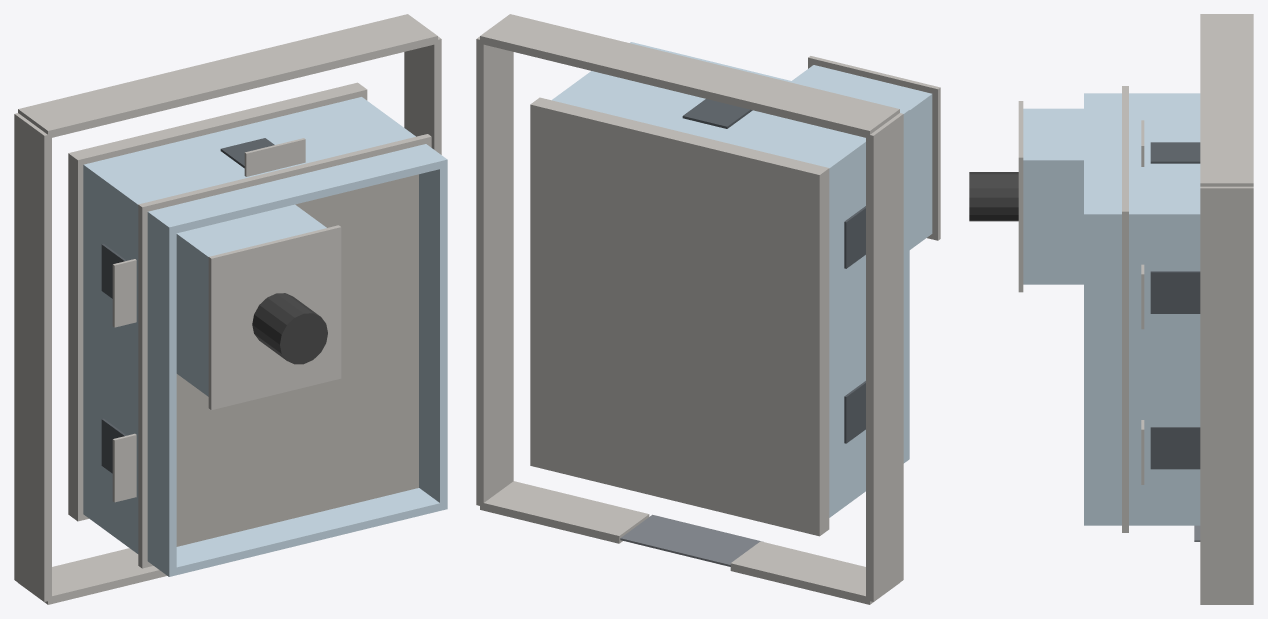
File: house_1f_blue.glb
3 renders of one model, left to right at view 1: azimuth 30°, elevation 25°; view 2: azimuth 150°, elevation 25°; view 3: azimuth 270°, elevation 25°, orthographic. The views are drawn at different scales.
Parts seen in each view (by area): view 1: concrete, blue, roof, tank, glass; view 2: concrete, blue, gate, glass; view 3: blue, concrete, glass, tank.
Boxes of the visible parts, bbox=[...] form: concrete: bbox=[14, 14, 441, 604]; blue: bbox=[83, 97, 447, 576]; roof: bbox=[176, 174, 418, 546]; tank: bbox=[252, 293, 327, 364]; glass: bbox=[101, 138, 274, 473]; concrete: bbox=[476, 14, 940, 604]; blue: bbox=[552, 42, 932, 517]; gate: bbox=[620, 514, 763, 566]; glass: bbox=[682, 99, 865, 443]; blue: bbox=[1023, 93, 1200, 525]; concrete: bbox=[1018, 14, 1253, 604]; glass: bbox=[1150, 142, 1200, 469]; tank: bbox=[969, 172, 1018, 221].
Size of the model in its own units: 10.7 by 12.2 by 7.45.
